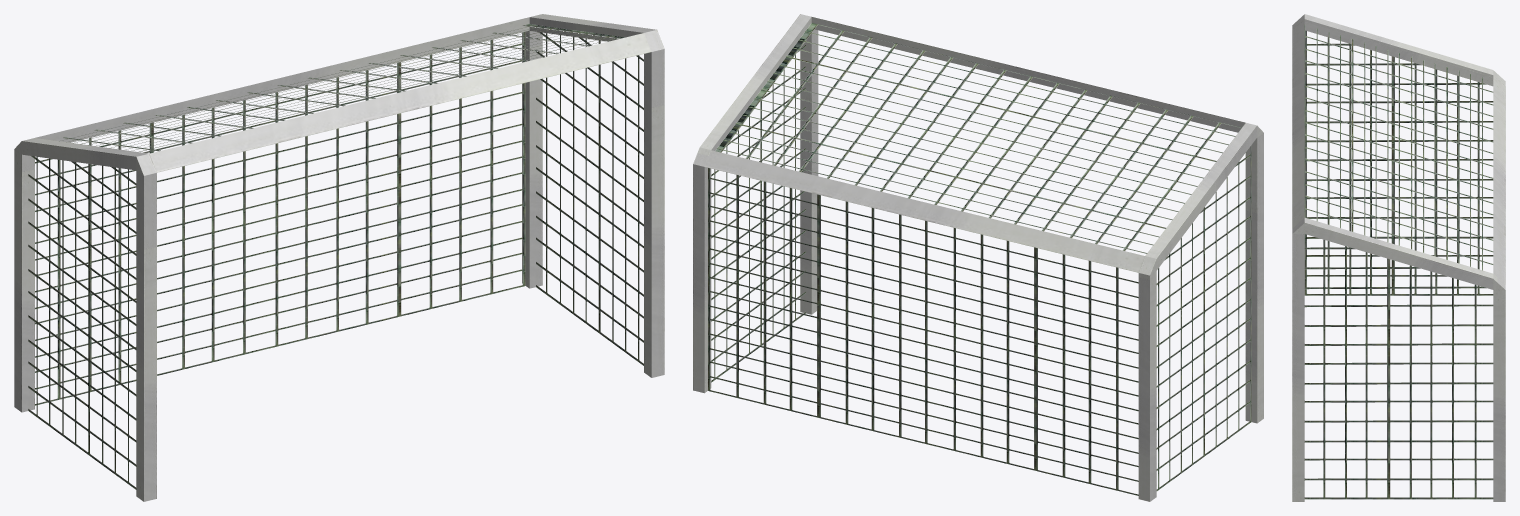
The model's file is FootballGoal01.obj.
The picture shows the model from 3 angles, left to right: view 1: azimuth 30°, elevation 25°; view 2: azimuth 150°, elevation 25°; view 3: azimuth 270°, elevation 25°; orthographic projection. The views are drawn at different scales.
Parts seen in each view (by area): view 1: FootballGoal01; view 2: FootballGoal01; view 3: FootballGoal01.
Boxes of the visible parts, bbox=[...] form: FootballGoal01: bbox=[14, 14, 664, 501]; FootballGoal01: bbox=[693, 14, 1263, 501]; FootballGoal01: bbox=[1292, 14, 1505, 501].
Bounding box in the file's own units: 8 × 4.99 × 3.45.
